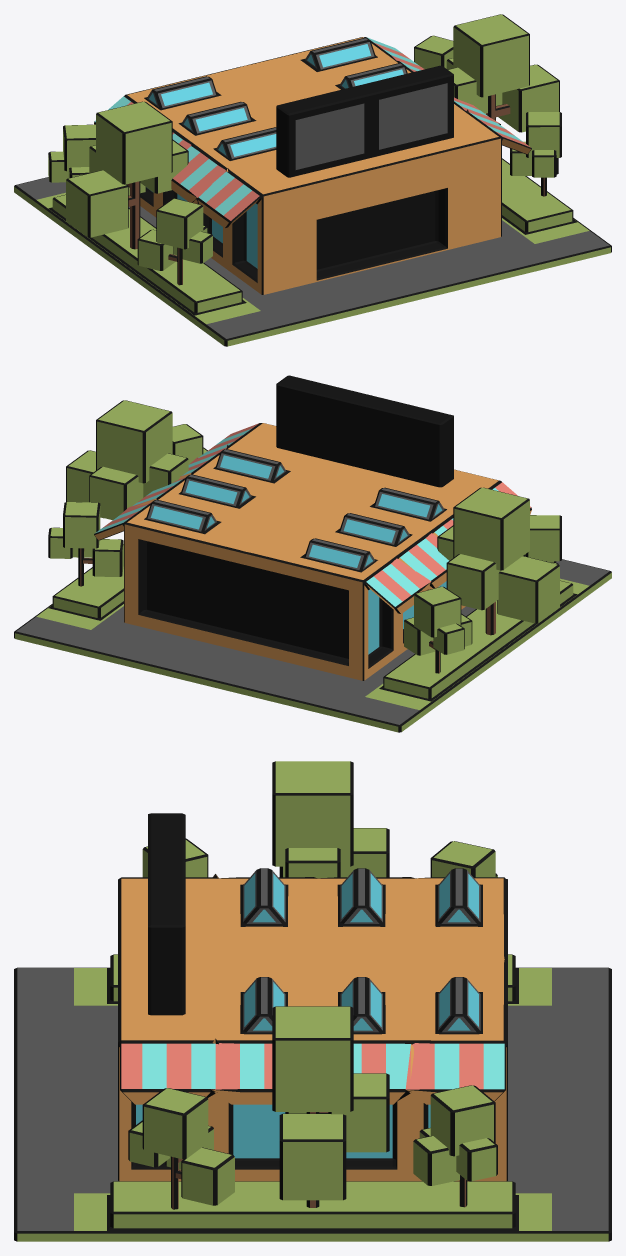
Rendered from Market.fbx.
The picture shows the model from 3 angles, top to bottom: view 1: azimuth 30°, elevation 25°; view 2: azimuth 150°, elevation 25°; view 3: azimuth 270°, elevation 25°; orthographic projection. The views are drawn at different scales.
Visible parts, largest first — view 1: Cube.044; view 2: Cube.044; view 3: Cube.044.
Boxes of the visible parts, x1,y1,x2,y2 form: Cube.044: [14, 14, 611, 346]; Cube.044: [14, 375, 611, 732]; Cube.044: [14, 761, 611, 1241].
Size of the model in its own units: 16.81 by 5.82 by 13.11.
